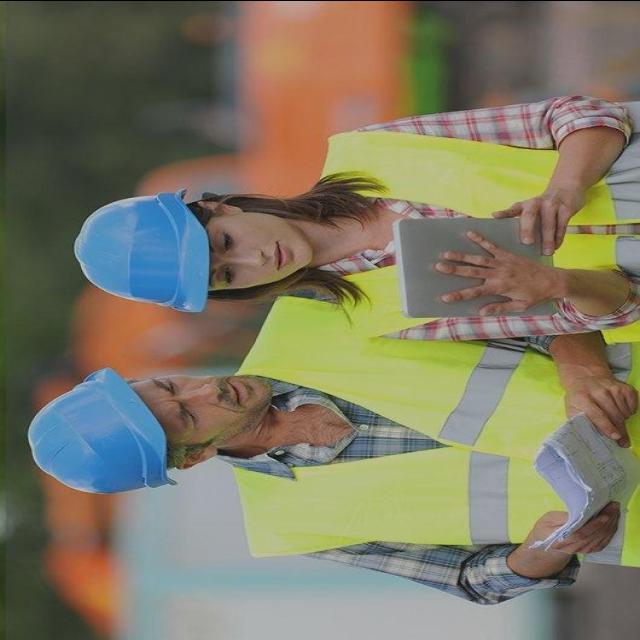helmet: (15, 357, 186, 505), (61, 178, 223, 326)
jacket: (225, 290, 638, 564)
